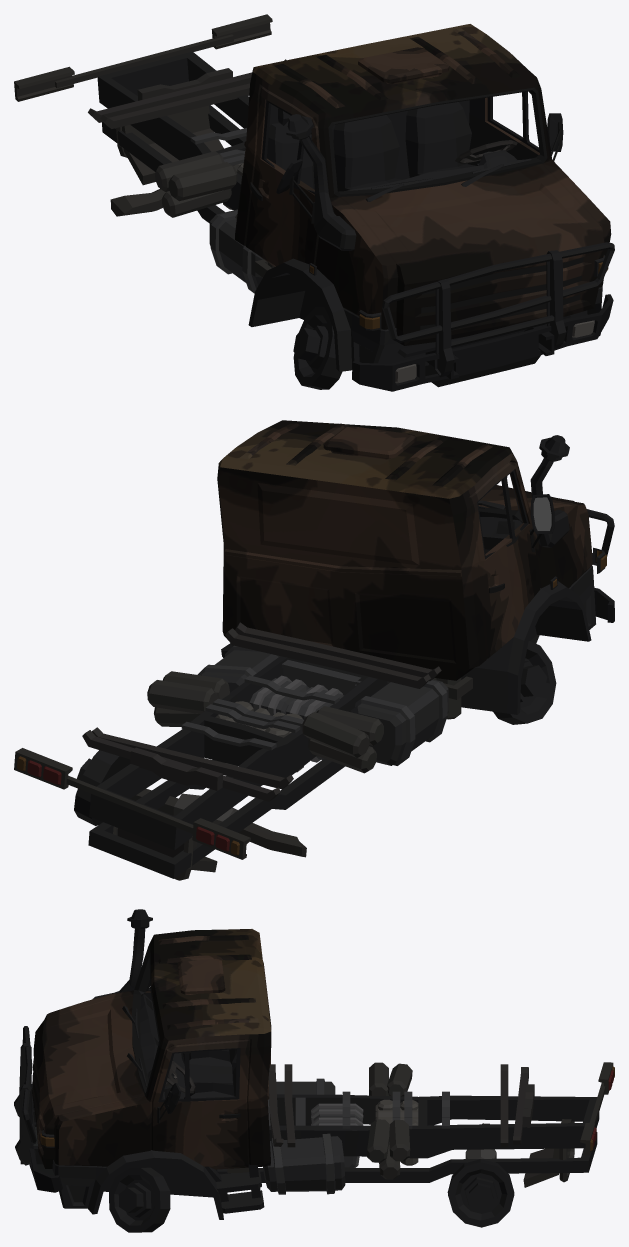
Rendered from SM_Veh_Truck_01_Destroyed.fbx.
3 views of the same model, one above another, from view 1: azimuth 30°, elevation 25°; view 2: azimuth 150°, elevation 25°; view 3: azimuth 270°, elevation 25° (orthographic). The views are drawn at different scales.
Visible parts, largest first — view 1: SM_Veh_Truck_01_Destroyed; view 2: SM_Veh_Truck_01_Destroyed; view 3: SM_Veh_Truck_01_Destroyed.
Part boxes in pixels (x1=…): SM_Veh_Truck_01_Destroyed: x1=14, y1=14, x2=614, y2=391; SM_Veh_Truck_01_Destroyed: x1=14, y1=420, x2=614, y2=880; SM_Veh_Truck_01_Destroyed: x1=14, y1=909, x2=614, y2=1232.
Bounding box in the file's own units: 309 × 281 × 668.
